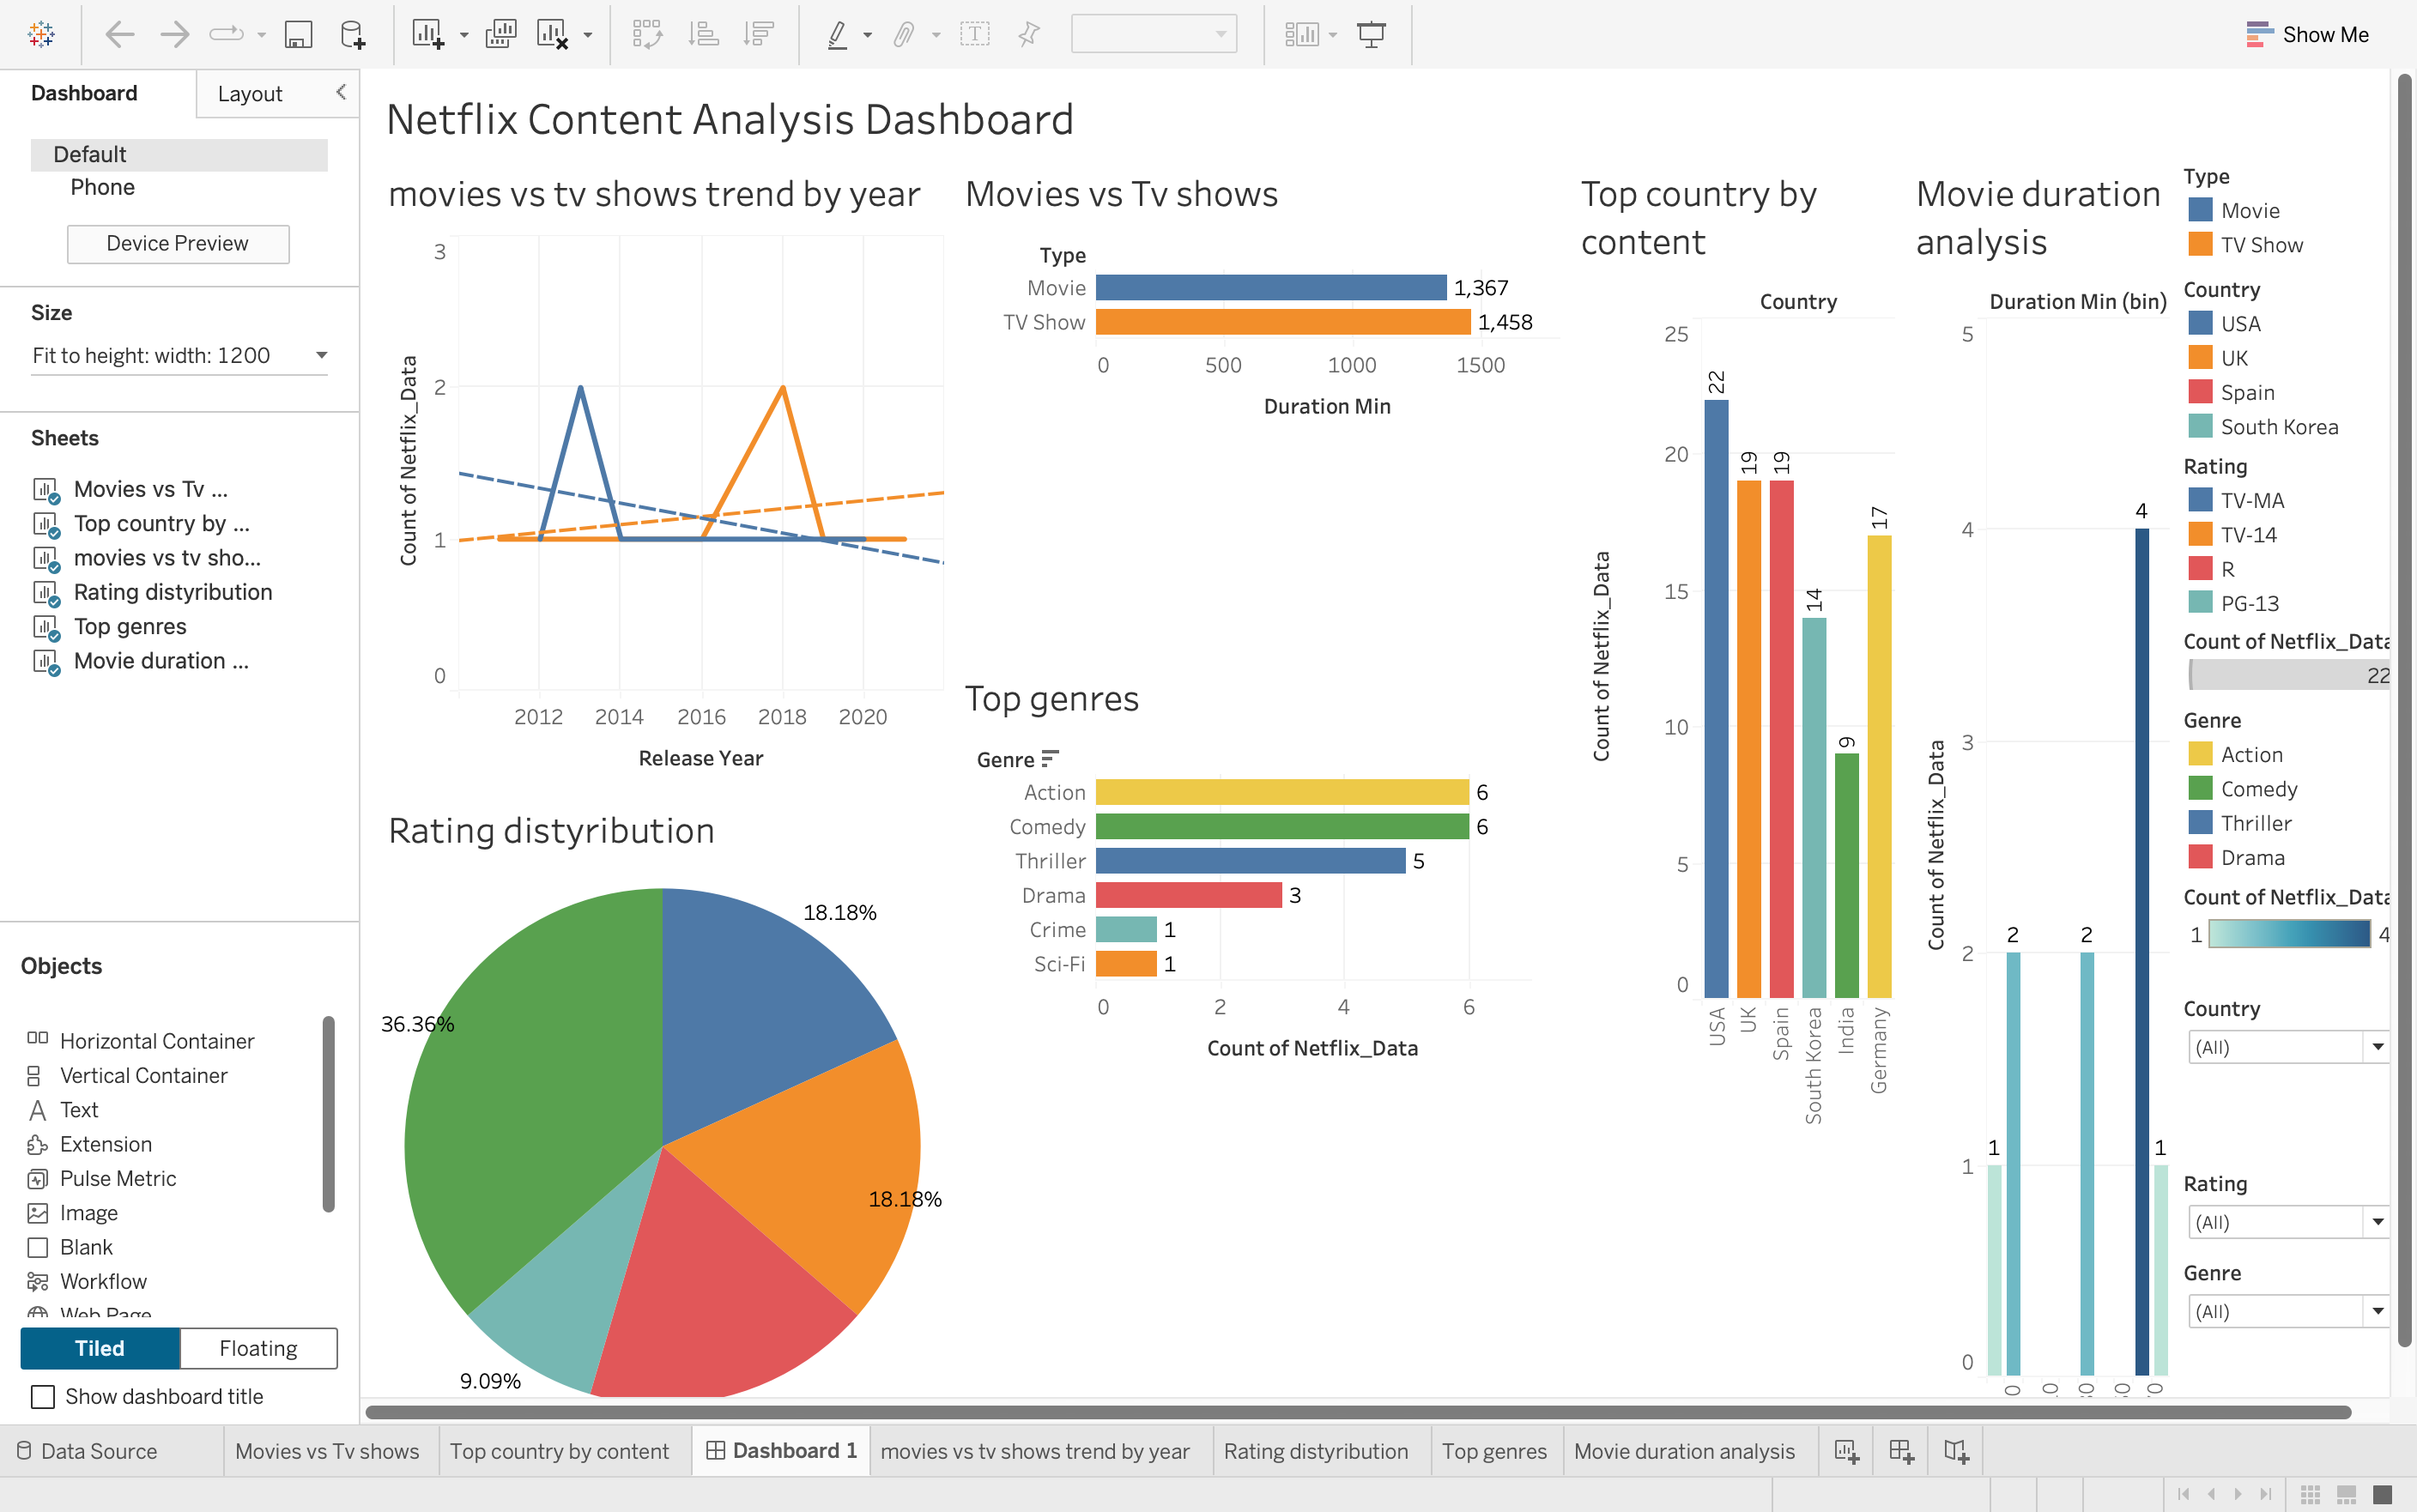

The page's visual inventory and layout, read from the dashboard file:
{"tool":"tableau","page":{"name":"Dashboard 1","canvas":[1000,1000],"units":"permille","ordinal":0},"visuals":[{"type":"title","box":[6.7,10,986.7,52.5]},{"type":"worksheet","title":"movies vs tv shows trend by year","mark":"Automatic","rows":["Netflix!Data_E7613E4BB5164AC0B450DFEFD62F7EA3"],"cols":["release_year"],"box":[6.7,62.5,280,463.8]},{"type":"worksheet","title":"Movies vs Tv shows","mark":"Automatic","rows":["type"],"cols":["duration_min"],"box":[286.7,62.5,299.2,367.5]},{"type":"worksheet","title":"Top country by content","mark":"Automatic","rows":["Netflix!Data_E7613E4BB5164AC0B450DFEFD62F7EA3"],"cols":["country"],"box":[585.8,62.5,162.5,927.5]},{"type":"worksheet","title":"Movie duration analysis","mark":"Automatic","rows":["Netflix!Data_E7613E4BB5164AC0B450DFEFD62F7EA3"],"cols":["Duration Min (bin)"],"box":[748.3,62.5,133.3,927.5]},{"type":"legend","title":"Movies vs Tv shows","param":"[federated.1p3g7re09h2kxb19usc4u0gcjzj4].[none:type:nk]","box":[881.6,62.5,111.7,82.5]},{"type":"legend","title":"Top country by content","param":"[federated.1p3g7re09h2kxb19usc4u0gcjzj4].[none:country:nk]","box":[881.6,145,111.7,128.2]},{"type":"legend","title":"Rating distyribution","param":"[federated.1p3g7re09h2kxb19usc4u0gcjzj4].[none:rating:nk]","box":[881.6,273.2,111.7,128.2]},{"type":"legend","title":"Rating distyribution","param":"[federated.1p3g7re09h2kxb19usc4u0gcjzj4].[__tableau_internal_object_id__].[cnt:N","box":[881.6,401.5,111.7,57.5]},{"type":"worksheet","title":"Top genres","mark":"Automatic","rows":["genre"],"cols":["Netflix!Data_E7613E4BB5164AC0B450DFEFD62F7EA3"],"box":[286.7,430,299.2,560]},{"type":"legend","title":"Top genres","param":"[federated.1p3g7re09h2kxb19usc4u0gcjzj4].[none:genre:nk]","box":[881.6,459,111.7,128.2]},{"type":"worksheet","title":"Rating distyribution","mark":"Pie","box":[6.7,526.2,280,463.8]},{"type":"legend","title":"Movie duration analysis","param":"[federated.1p3g7re09h2kxb19usc4u0gcjzj4].[__tableau_internal_object_id__].[cnt:N","box":[881.6,587.2,111.7,81.2]},{"type":"filter","title":"Top country by content","param":"[federated.1p3g7re09h2kxb19usc4u0gcjzj4].[none:country:nk]","box":[881.6,668.5,111.7,128.2]},{"type":"filter","title":"Rating distyribution","param":"[federated.1p3g7re09h2kxb19usc4u0gcjzj4].[none:rating:nk]","box":[881.6,796.8,111.7,65]},{"type":"filter","title":"Top genres","param":"[federated.1p3g7re09h2kxb19usc4u0gcjzj4].[none:genre:nk]","box":[881.6,861.8,111.7,128.2]}]}

Visuals, with their boxes on the dashboard's canvas, which has no fixed pixel size, in thousandths of its width and height (x1, y1, x2, y2). These are canvas units, not pixel positions in the 2417x1512 screenshot, which may show the page scaled, cropped or inside an application window:
title: bbox=(7, 10, 993, 62)
"movies vs tv shows trend by year" worksheet: bbox=(7, 62, 287, 526)
"Movies vs Tv shows" worksheet: bbox=(287, 62, 586, 430)
"Top country by content" worksheet: bbox=(586, 62, 748, 990)
"Movie duration analysis" worksheet: bbox=(748, 62, 882, 990)
"Movies vs Tv shows" legend: bbox=(882, 62, 993, 145)
"Top country by content" legend: bbox=(882, 145, 993, 273)
"Rating distyribution" legend: bbox=(882, 273, 993, 401)
"Rating distyribution" legend: bbox=(882, 402, 993, 459)
"Top genres" worksheet: bbox=(287, 430, 586, 990)
"Top genres" legend: bbox=(882, 459, 993, 587)
"Rating distyribution" worksheet (Pie marks): bbox=(7, 526, 287, 990)
"Movie duration analysis" legend: bbox=(882, 587, 993, 668)
"Top country by content" filter: bbox=(882, 668, 993, 797)
"Rating distyribution" filter: bbox=(882, 797, 993, 862)
"Top genres" filter: bbox=(882, 862, 993, 990)
